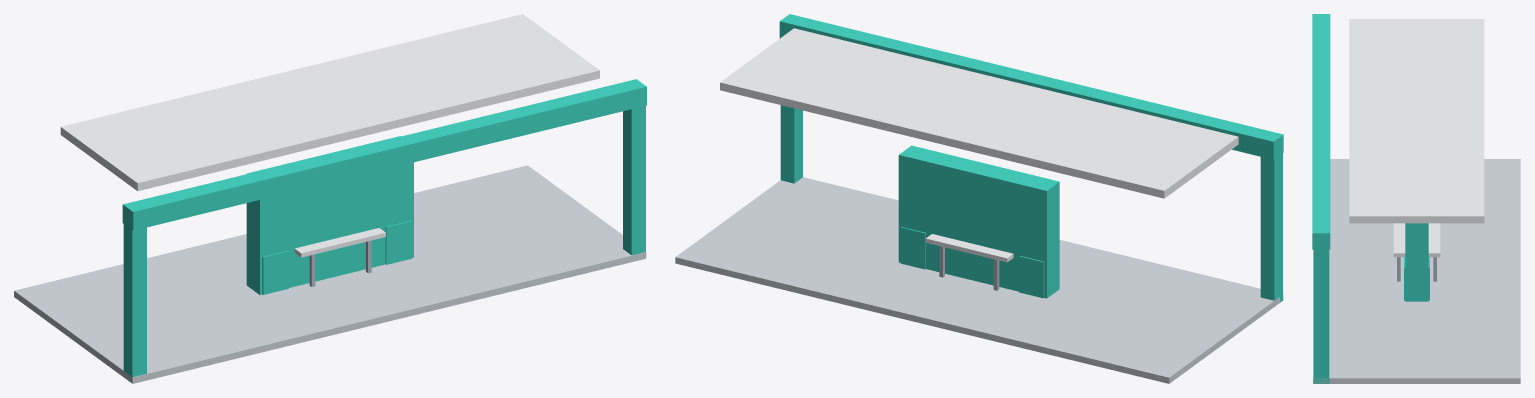
3 renders of one model, left to right at view 1: azimuth 30°, elevation 25°; view 2: azimuth 150°, elevation 25°; view 3: azimuth 270°, elevation 25°, orthographic. The views are drawn at different scales.
Parts seen in each view (by area): view 1: Exhibition Booth Concept; view 2: Exhibition Booth Concept; view 3: Exhibition Booth Concept.
Part boxes in pixels (left/top/right/bottom): Exhibition Booth Concept: left=14, top=14, right=646, bottom=383; Exhibition Booth Concept: left=675, top=14, right=1283, bottom=383; Exhibition Booth Concept: left=1312, top=14, right=1520, bottom=383.
Size of the model in its own units: 10 by 3.34 by 4.02.
